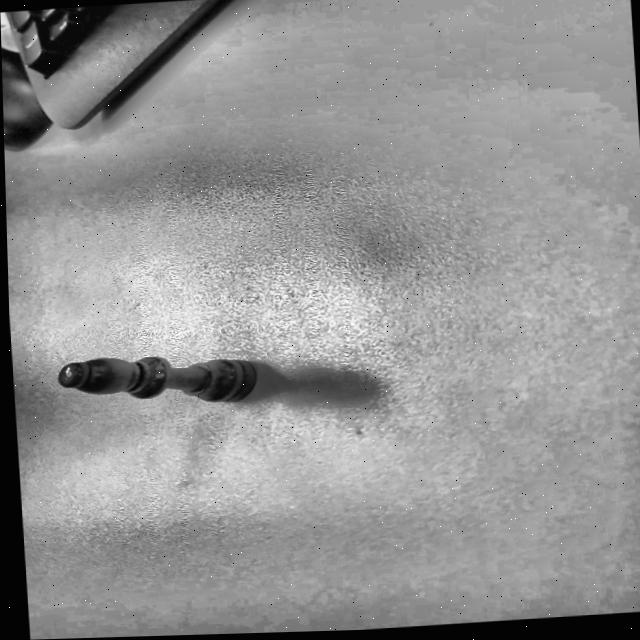black-bishop: (48, 328, 286, 426)
